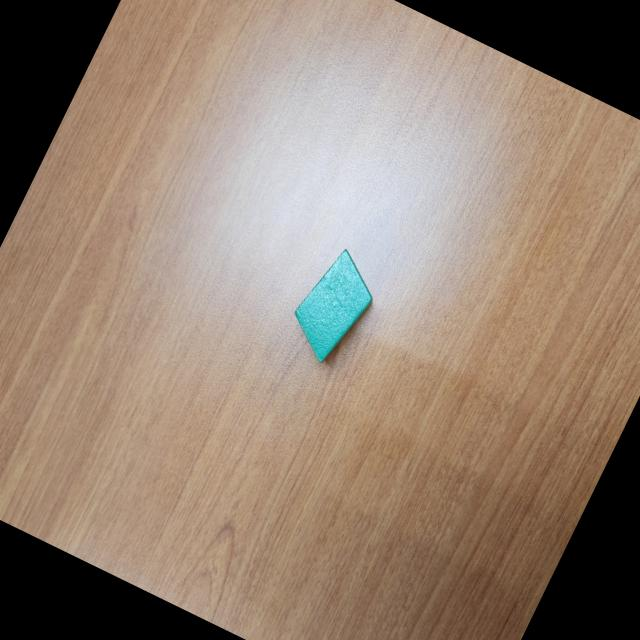green: (279, 241, 388, 371)
